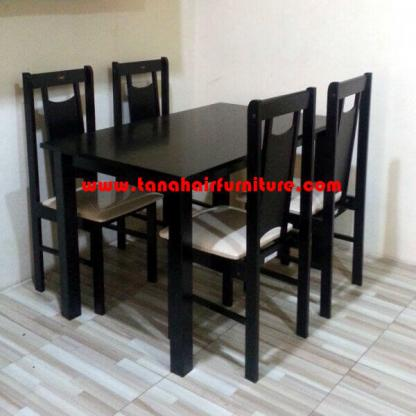Dining Table: (0, 49, 416, 403)
